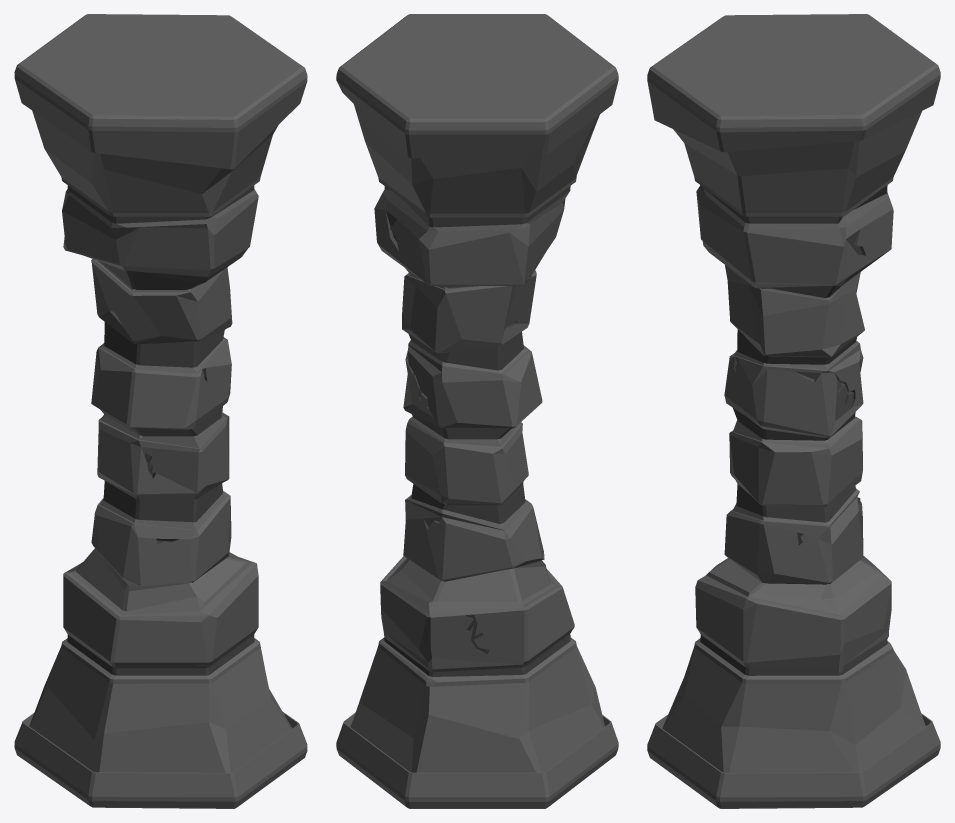
Rendered from Säule_004.fbx.
3 renders of one model, left to right at view 1: azimuth 30°, elevation 25°; view 2: azimuth 150°, elevation 25°; view 3: azimuth 270°, elevation 25°, orthographic.
Parts seen in each view (by area): view 1: Säule_004; view 2: Säule_004; view 3: Säule_004.
Boxes of the visible parts, <box> form: Säule_004: <box>14,14,307,808</box>; Säule_004: <box>336,14,618,808</box>; Säule_004: <box>647,14,940,808</box>.
Bounding box in the file's own units: 256 × 773 × 297.
